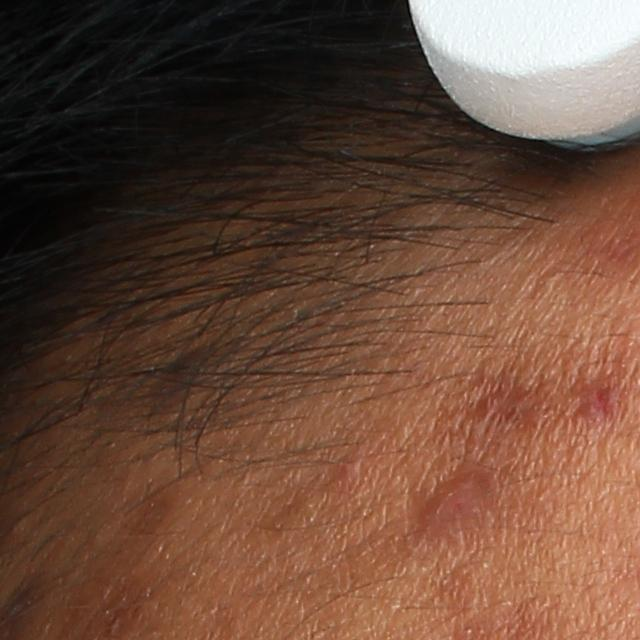papule: (415, 479, 480, 535), (337, 458, 363, 483)
